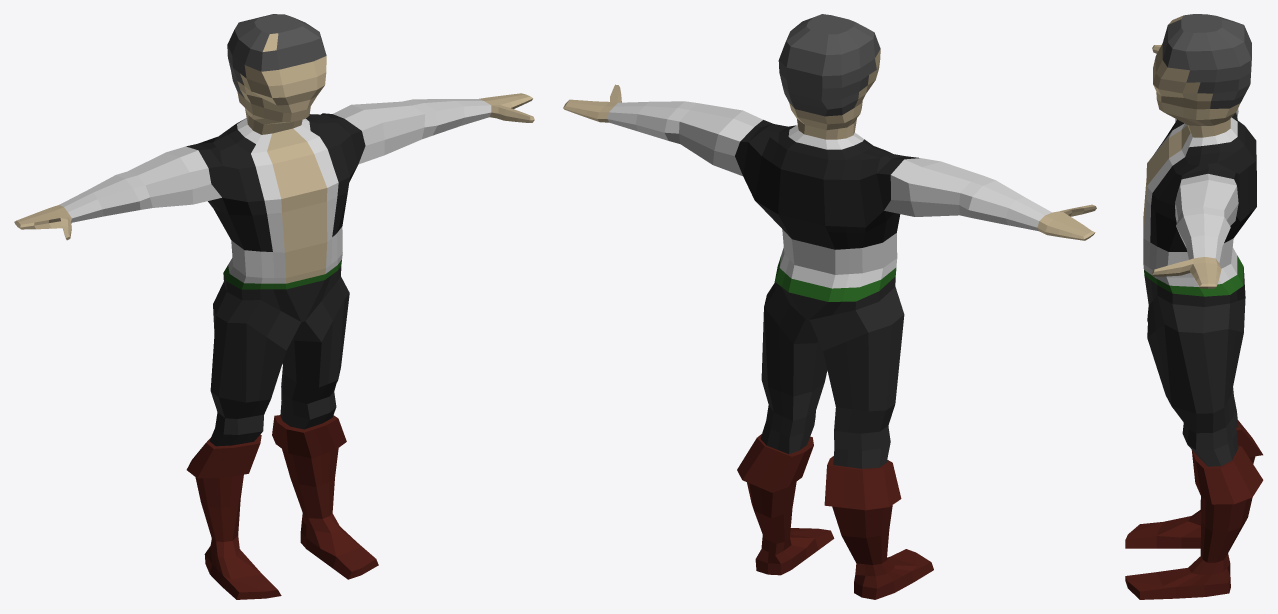
File: Pirate_colored.fbx
3 renders of one model, left to right at view 1: azimuth 30°, elevation 25°; view 2: azimuth 150°, elevation 25°; view 3: azimuth 270°, elevation 25°, orthographic. The views are drawn at different scales.
Visible parts, largest first — view 1: Cube; view 2: Cube; view 3: Cube.
Boxes of the visible parts, box(x1,y1,x2,y2) form: Cube: box(14, 14, 534, 599); Cube: box(563, 14, 1096, 599); Cube: box(1125, 14, 1263, 599).
Bounding box in the file's own units: 253 × 253 × 58.5.
